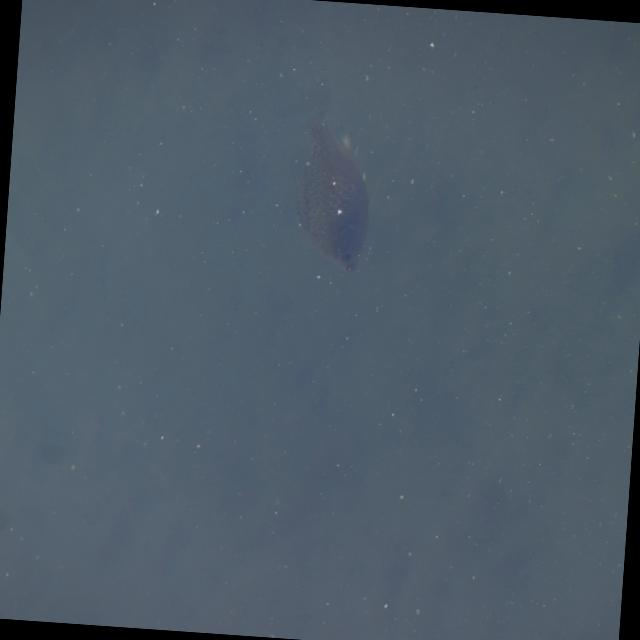Gunes Levregi: (286, 116, 376, 272)
